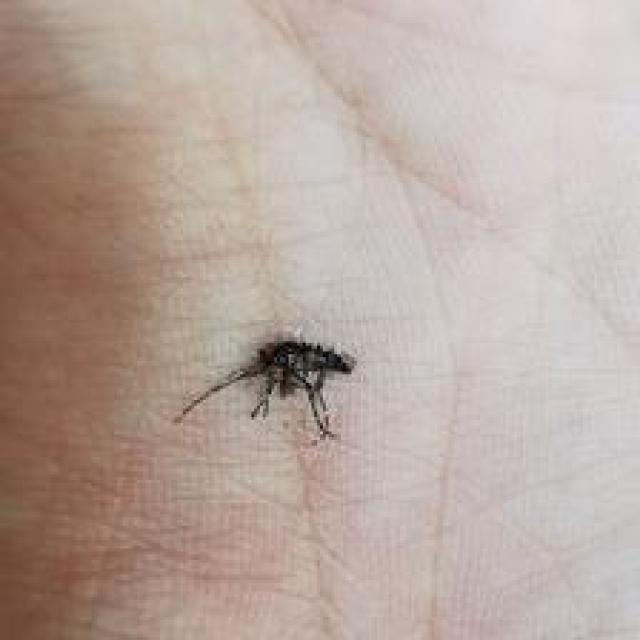Aedes albopictus: (172, 334, 357, 443)
